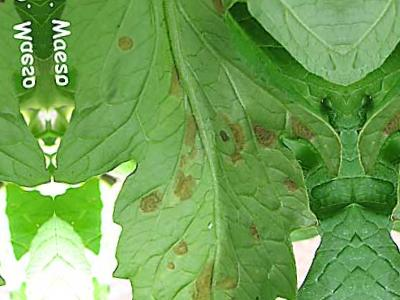Tomato mold leaf: (53, 0, 327, 300)
